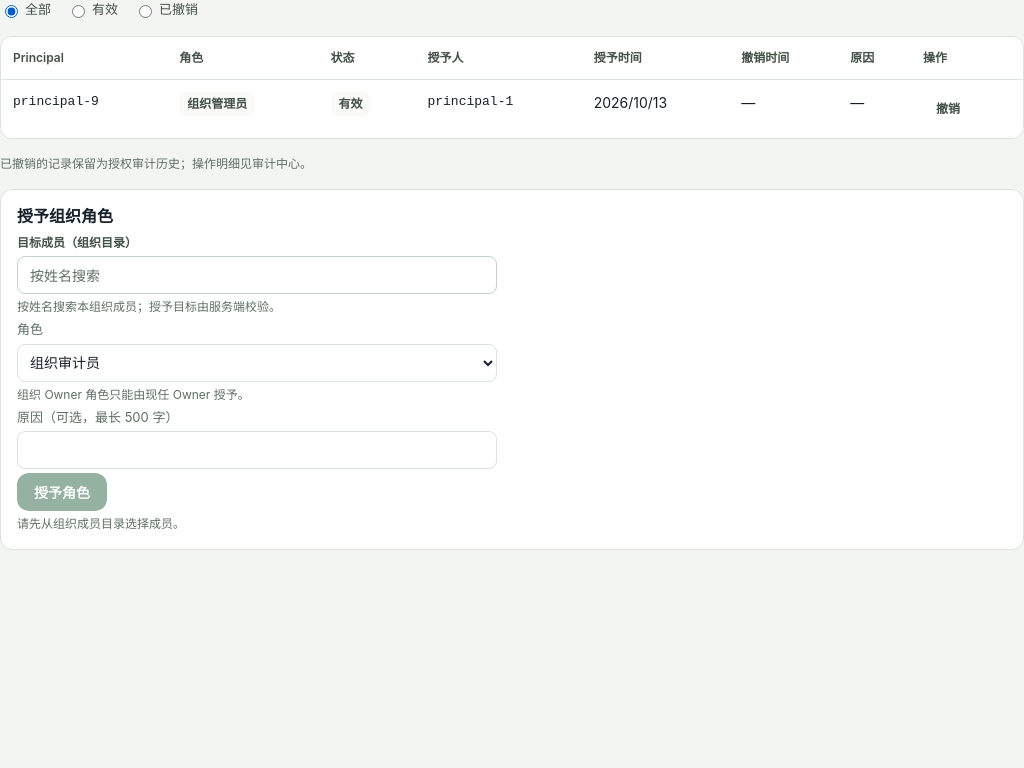
it: OrganizationRoleGrants › confirms a revoke through the dialog and explains the last-owner protection on 409
Click the button "撤销" at (948, 108), box [923,92,973,126]
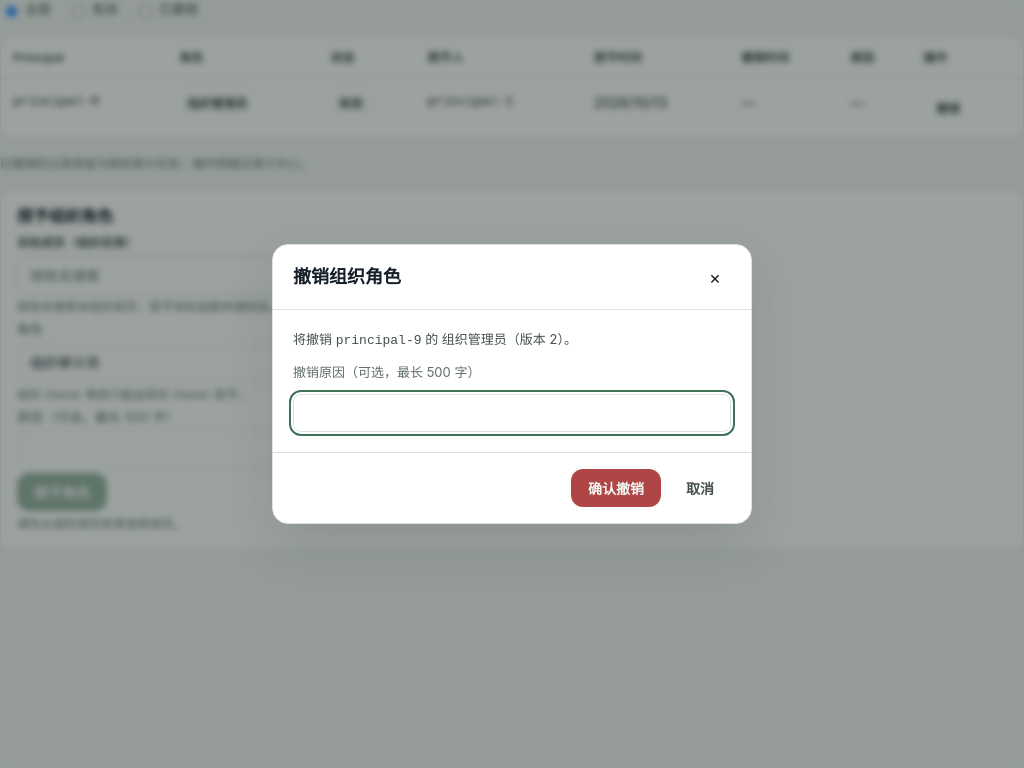
Now the dialog is shown, box [272,244,752,524]
Now the button with class "base-button--danger" is shown, box [571,469,661,507]
Submit the form with class "org-revoke-body", box [293,330,731,432]
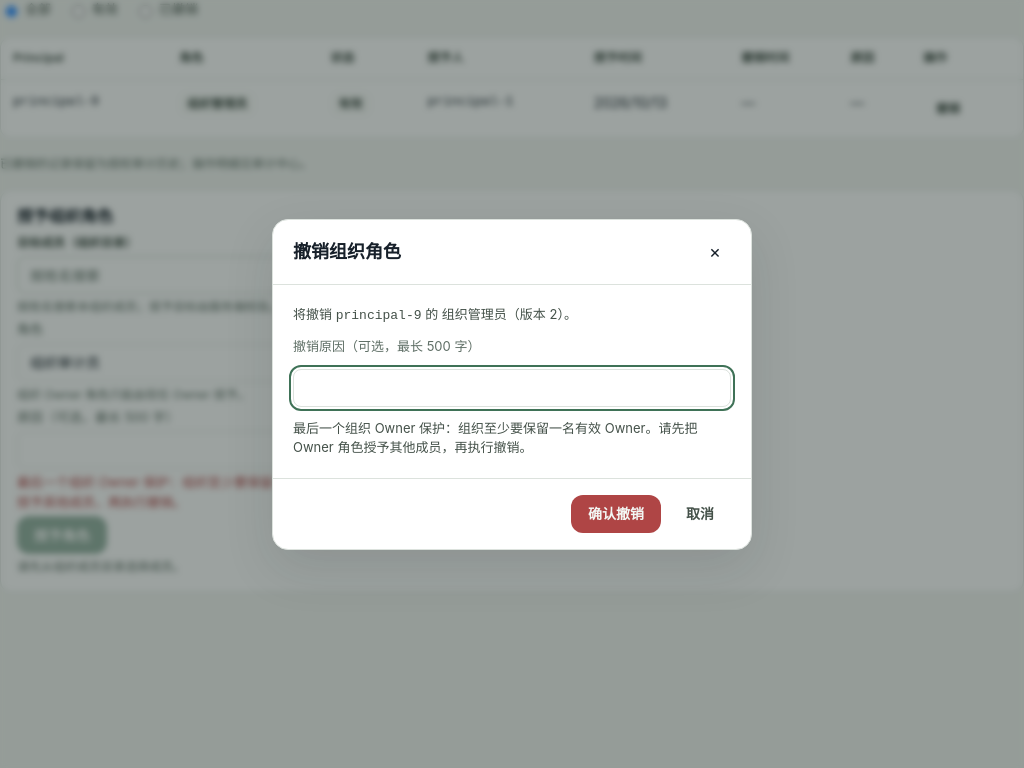
Now the text "最后一个组织 Owner 保护" is shown, box [17,474,496,510]
Now the text "至少要保留一名有效 Owner" is shown, box [17,474,496,510]
